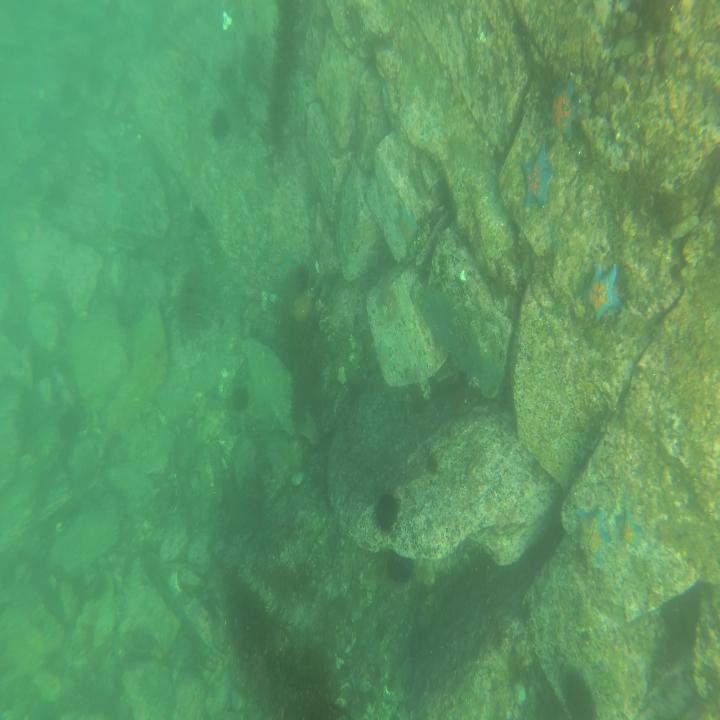echinus: (170, 263, 207, 349), (557, 662, 596, 720), (386, 542, 417, 586), (372, 488, 398, 529), (380, 284, 400, 324), (232, 382, 249, 411), (211, 111, 228, 140), (219, 59, 234, 91)
starfish: (582, 254, 620, 324), (572, 501, 610, 569), (518, 141, 554, 211), (549, 74, 581, 144), (614, 505, 643, 554)
